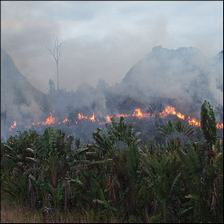fire: (80, 108, 157, 125), (158, 103, 200, 129), (29, 112, 78, 129), (214, 119, 224, 135), (8, 119, 19, 131)
